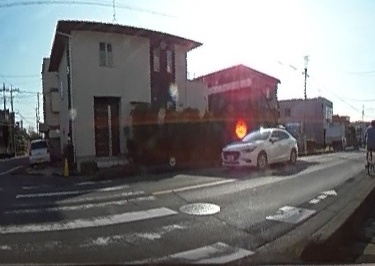person: (366, 120, 375, 163)
